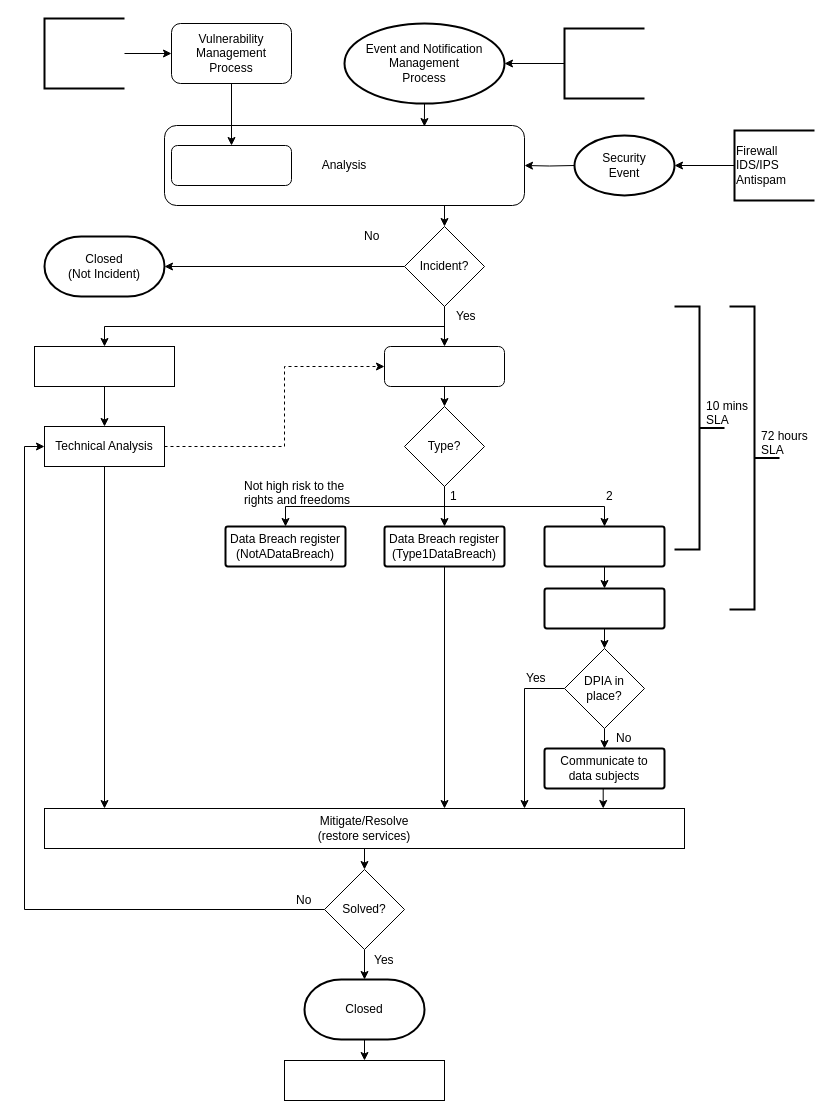
This 837x1118 diagram has some shape labels left out. Each missing label, with the box of its shape:
Communicate to supervisory authority: (543, 587, 665, 629)
Data Breach register (Type2DataBreach): (543, 525, 665, 567)
Evaluation: (384, 346, 504, 386)
Feeds CSIRT VA/PT: (43, 17, 125, 89)
Incident Management process: (34, 346, 174, 386)
Monitor Log parsers Emails Phone Calls: (563, 27, 645, 99)
Problem Management (Lesson Learned): (284, 1060, 444, 1100)
Threat Hunting: (170, 144, 292, 186)
